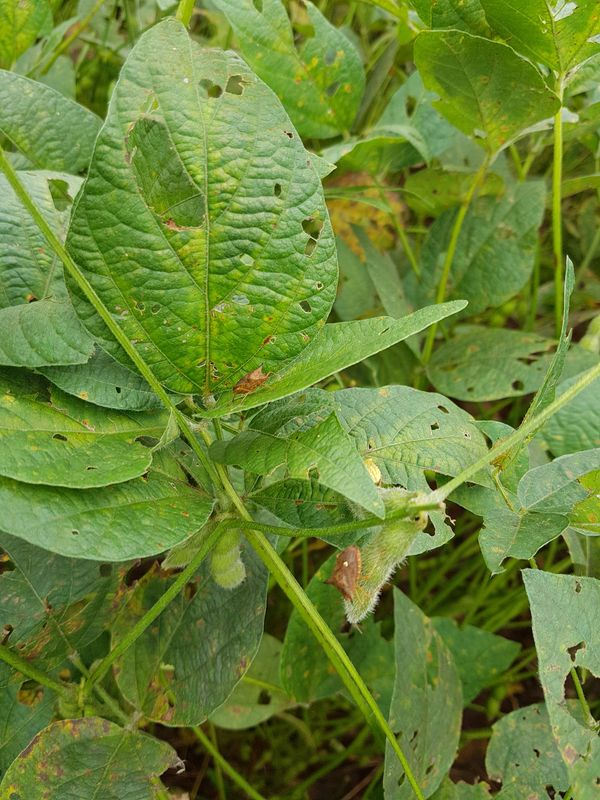Euschistus_heros_adulto: (317, 542, 372, 608), (222, 360, 282, 406)
Euschistus_heros_ninfa: (355, 454, 389, 489)
